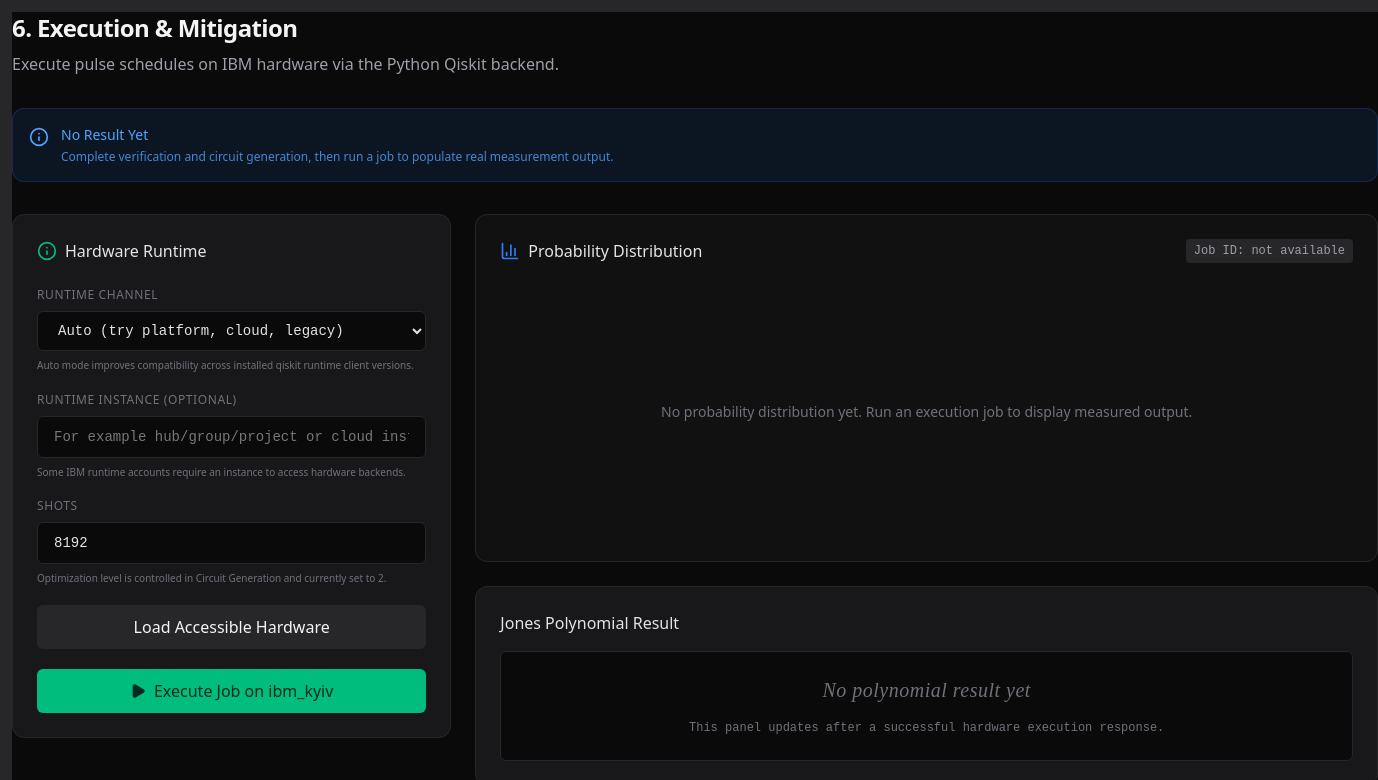
Scenario: ExecutionResults › blocks submit when braid word is not contiguous
Click the button "Execute Job on ibm_kyiv".
click(232, 690)  # box [37,668,426,712]
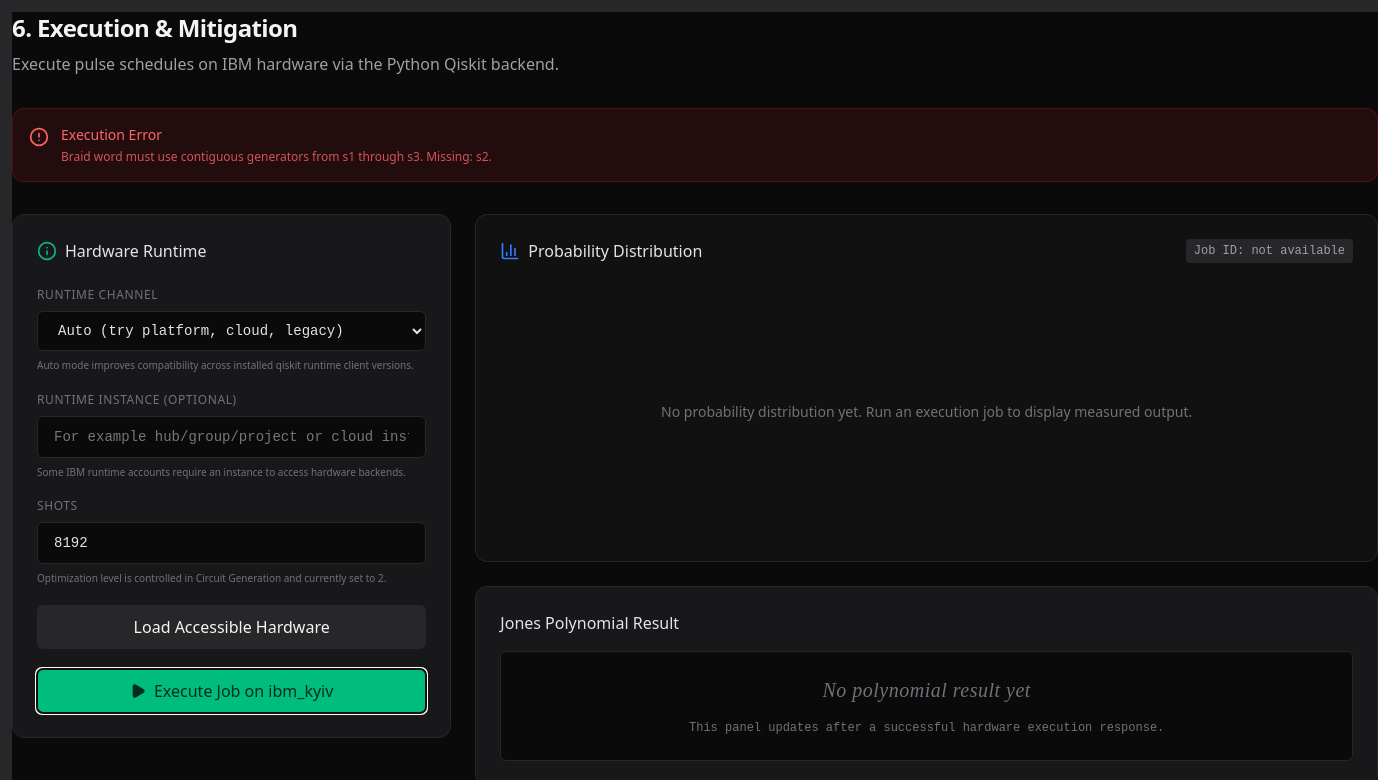
Check: the text "must use contiguous generators from s1 through s3" is shown, box [61,148,492,165]
